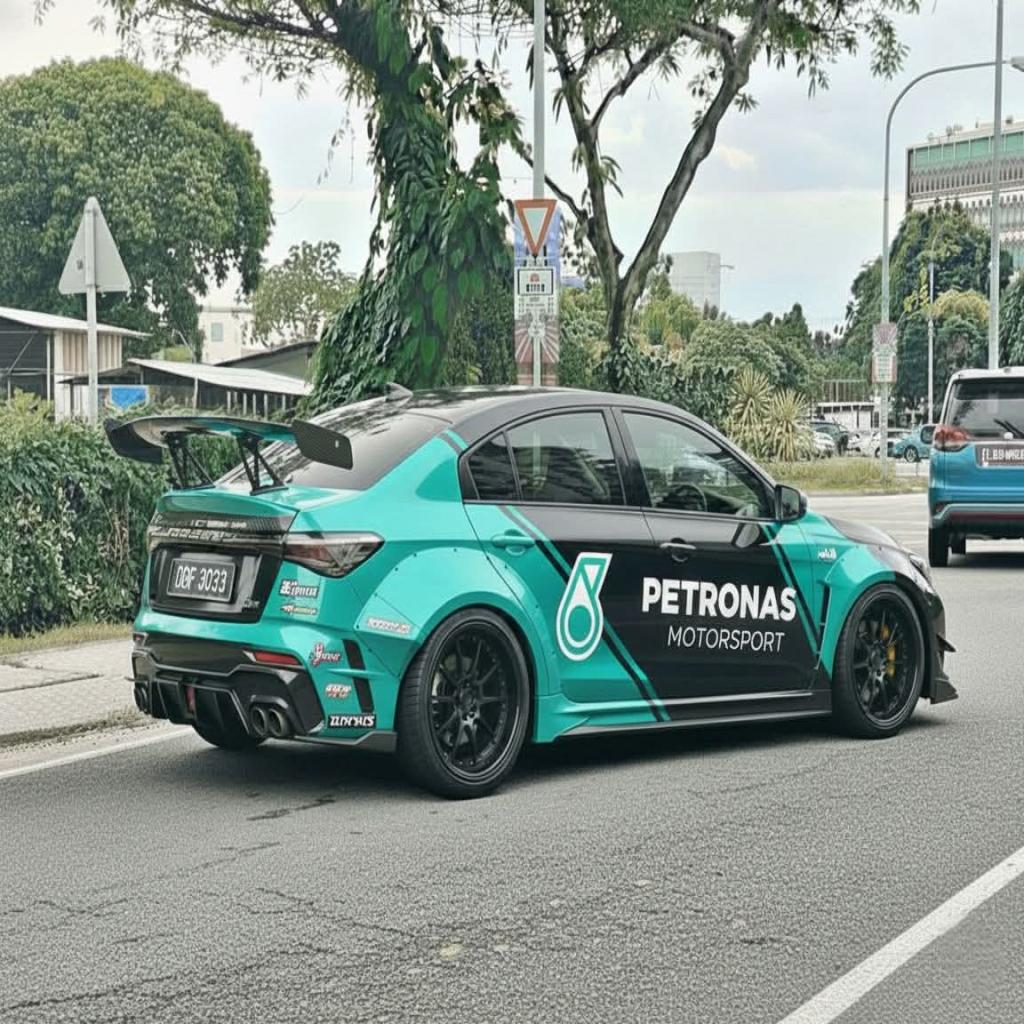car: (108, 388, 955, 796)
car plate: (168, 557, 236, 602)
